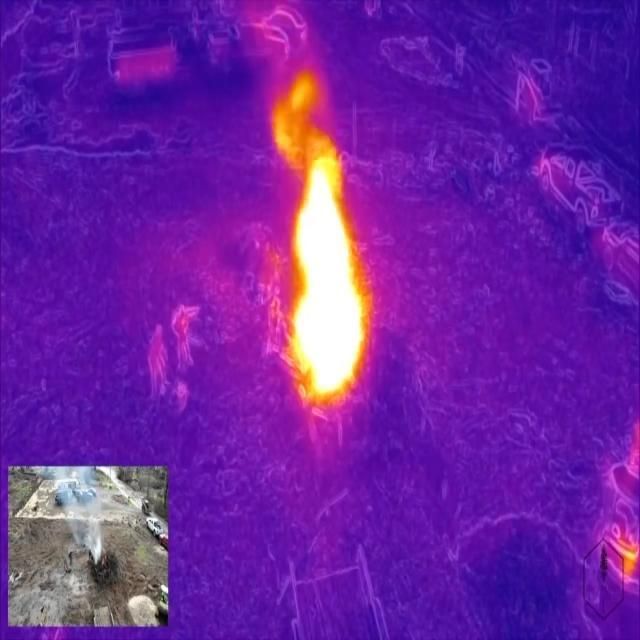fire: (292, 143, 367, 405)
